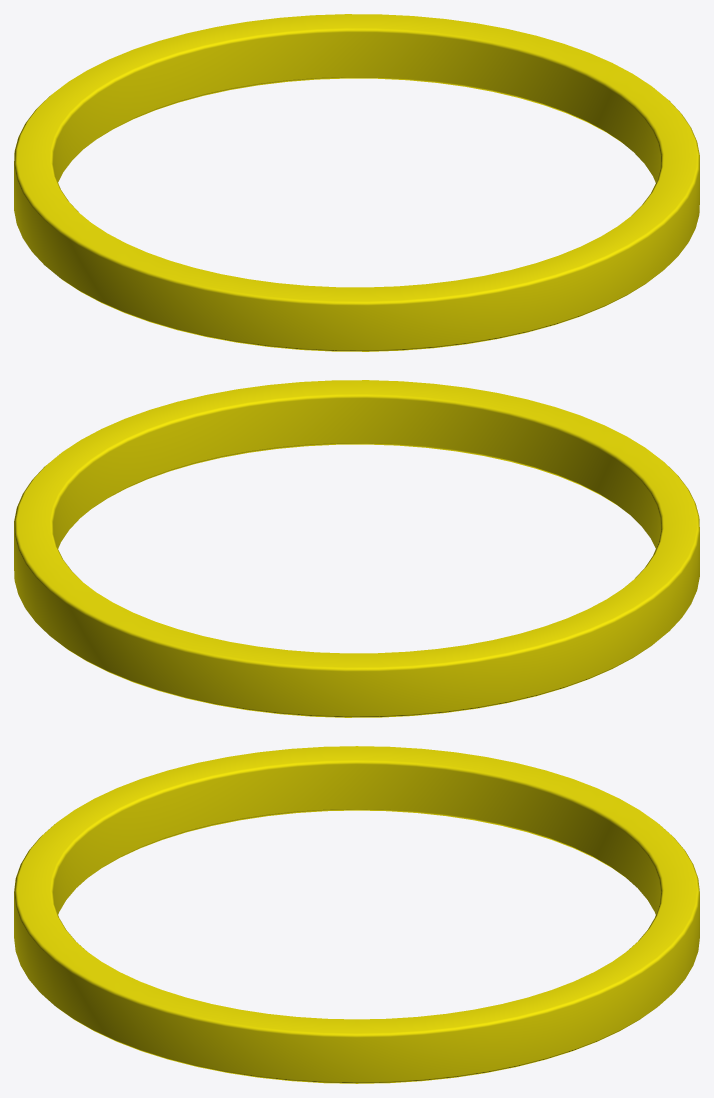
The picture shows the model from 3 angles, top to bottom: view 1: azimuth 30°, elevation 25°; view 2: azimuth 150°, elevation 25°; view 3: azimuth 270°, elevation 25°; orthographic projection.
Parts seen in each view (by area): view 1: seal_body; view 2: seal_body; view 3: seal_body.
Part boxes in pixels (x1,y1,x2,y2): seal_body: (14,14,699,351); seal_body: (14,380,699,717); seal_body: (14,746,699,1083).
Bounding box in the file's own units: 0.1129 × 0.0092 × 0.1129.
